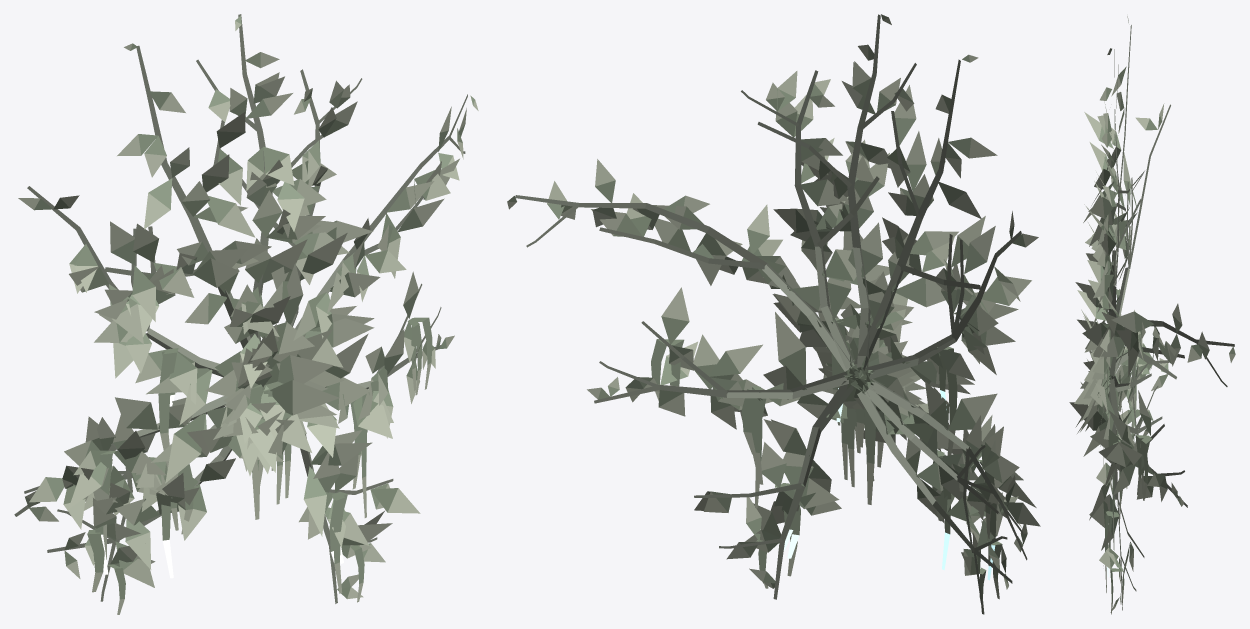
The model's file is plant_t1_s3.fbx.
3 views of the same model, side by side, from view 1: azimuth 30°, elevation 25°; view 2: azimuth 150°, elevation 25°; view 3: azimuth 270°, elevation 25° (orthographic). The views are drawn at different scales.
Visible parts, largest first — view 1: plant_t1_s3; view 2: plant_t1_s3; view 3: plant_t1_s3.
Boxes of the visible parts, box(x1,y1,x2,y2) form: plant_t1_s3: box(14, 14, 478, 614); plant_t1_s3: box(507, 14, 1040, 614); plant_t1_s3: box(1069, 16, 1235, 614).
Size of the model in its own units: 33.98 by 40.05 by 11.62.
